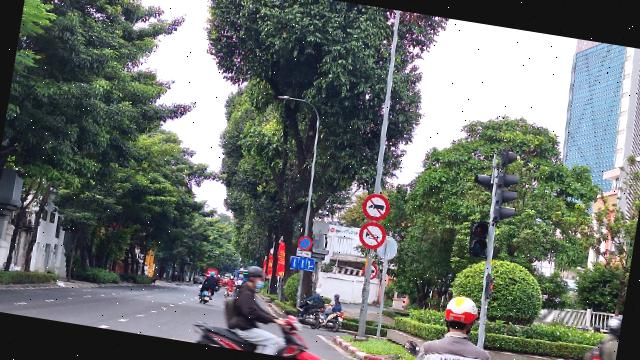cam-bop-coi: (357, 220, 388, 250)
cam-do-xe: (296, 234, 314, 252)
